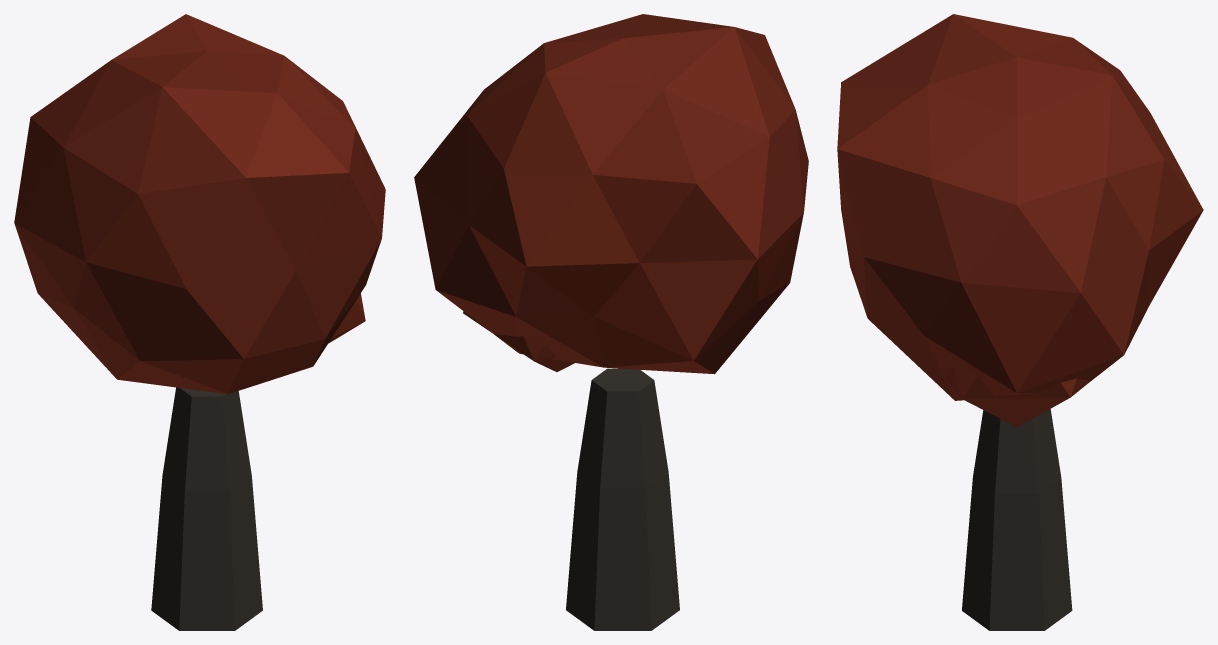
File: tree_willow_pollard_far.glb
The picture shows the model from 3 angles, left to right: view 1: azimuth 30°, elevation 25°; view 2: azimuth 150°, elevation 25°; view 3: azimuth 270°, elevation 25°; orthographic projection. The views are drawn at different scales.
Visible parts, largest first — view 1: tree_willow_pollard_far; view 2: tree_willow_pollard_far; view 3: tree_willow_pollard_far.
Part boxes in pixels (box(x1,y1,x2,y2)): tree_willow_pollard_far: box(14, 14, 385, 630); tree_willow_pollard_far: box(414, 14, 808, 630); tree_willow_pollard_far: box(837, 14, 1203, 630).
Bounding box in the file's own units: 3.11 × 5.03 × 2.98.
